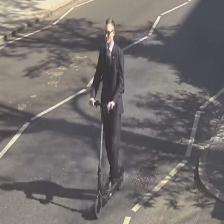person: (89, 17, 124, 186)
